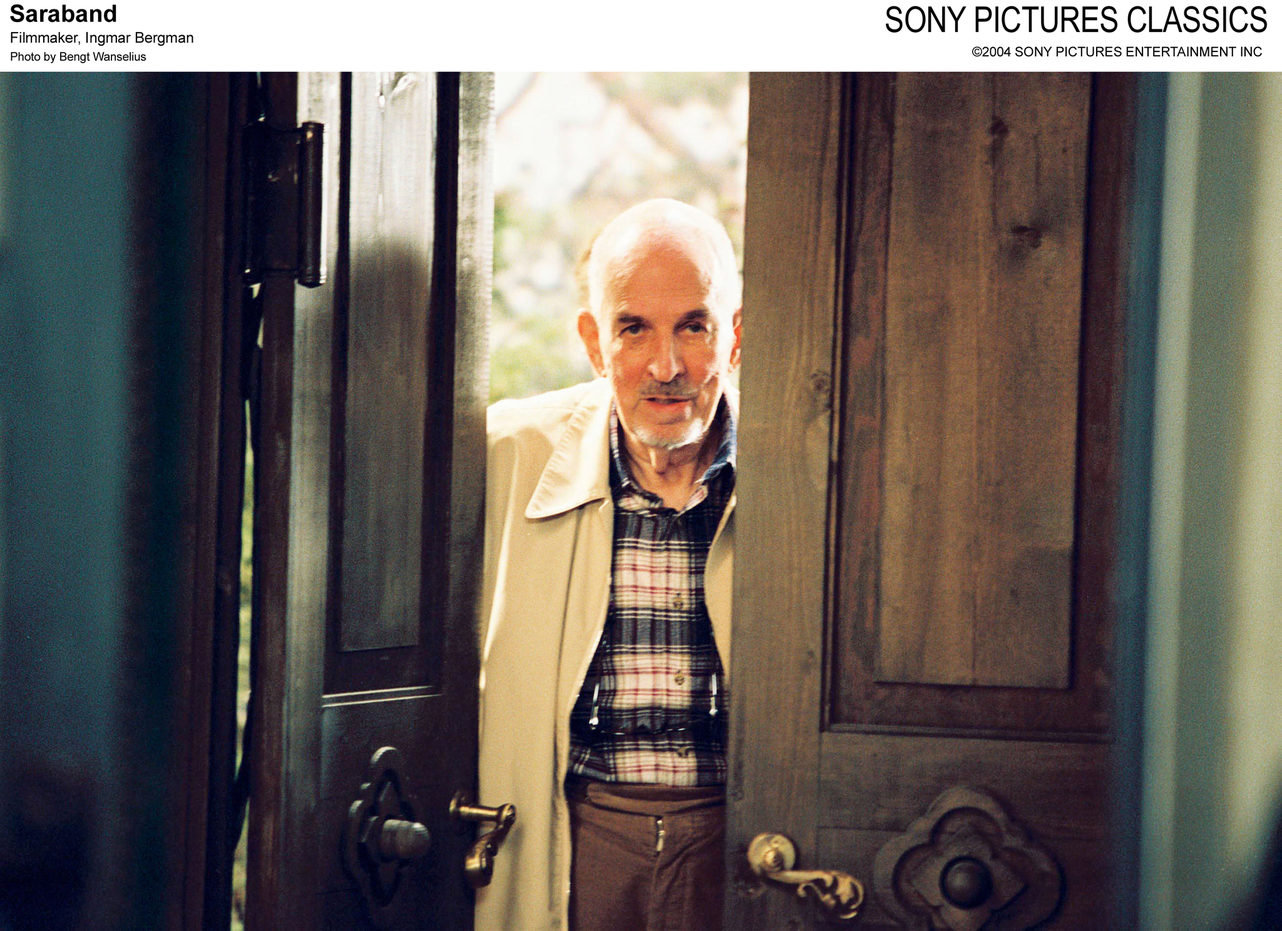57: (573, 200, 755, 478)
Jacket: (483, 380, 622, 931)
Male: (573, 200, 755, 478)
Pants: (567, 788, 732, 931)
Shirt: (577, 410, 732, 790)
